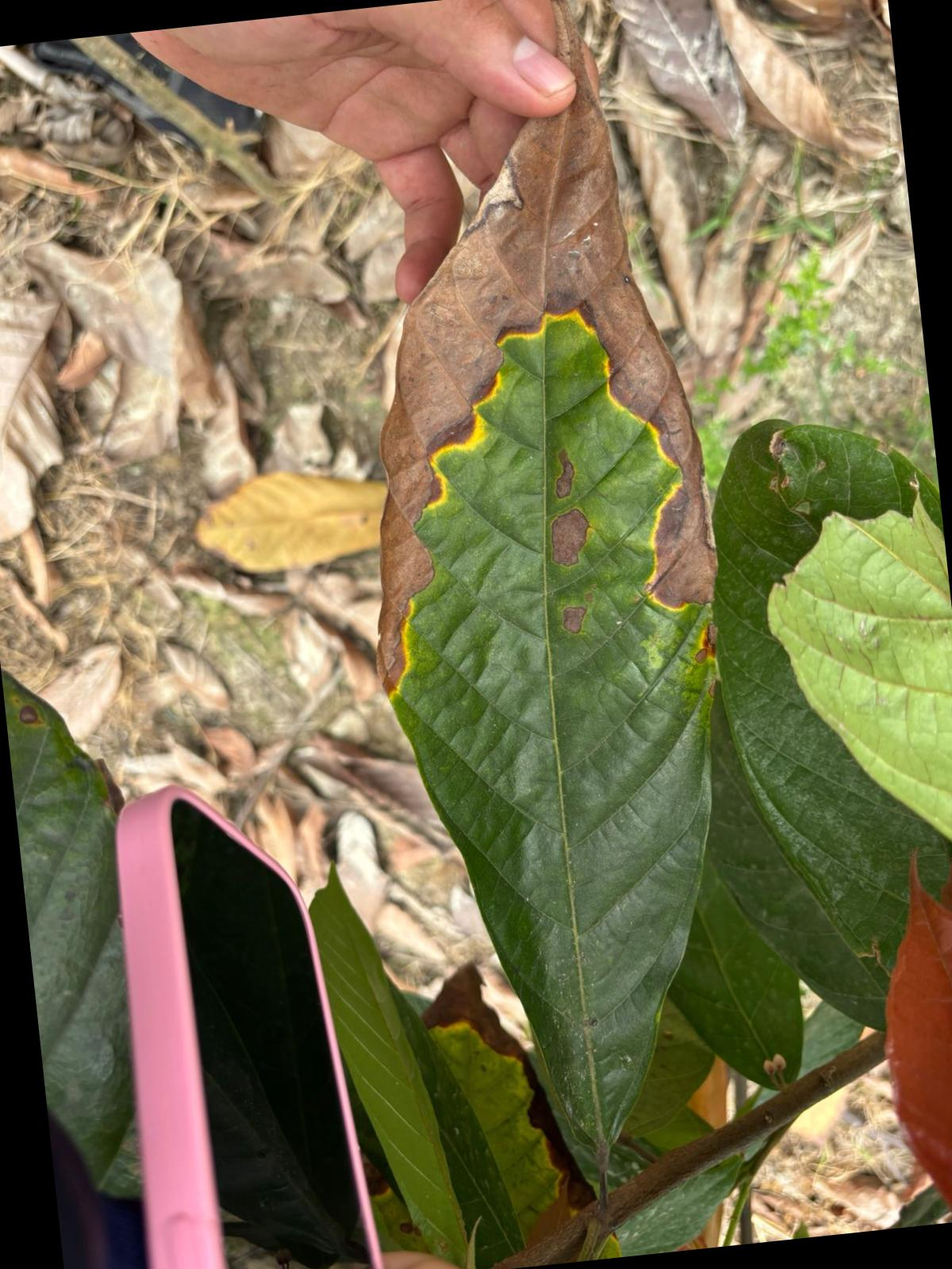Potasio: (380, 76, 714, 1164)
